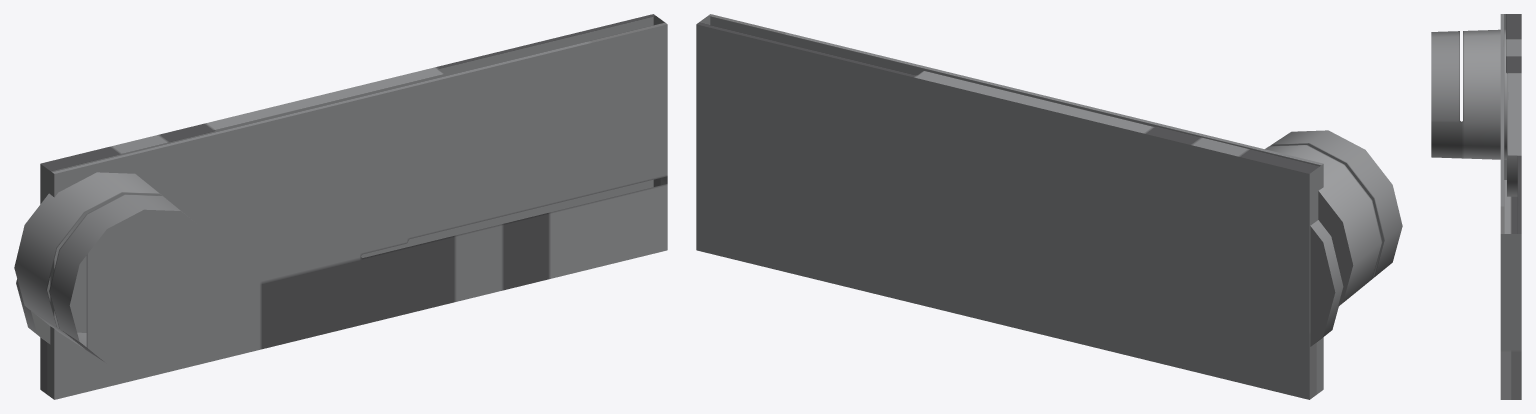
3 views of the same model, side by side, from view 1: azimuth 30°, elevation 25°; view 2: azimuth 150°, elevation 25°; view 3: azimuth 270°, elevation 25° (orthographic). The views are drawn at different scales.
Bounding box in the file's own units: 0.856 × 0.2852 × 0.1402.
